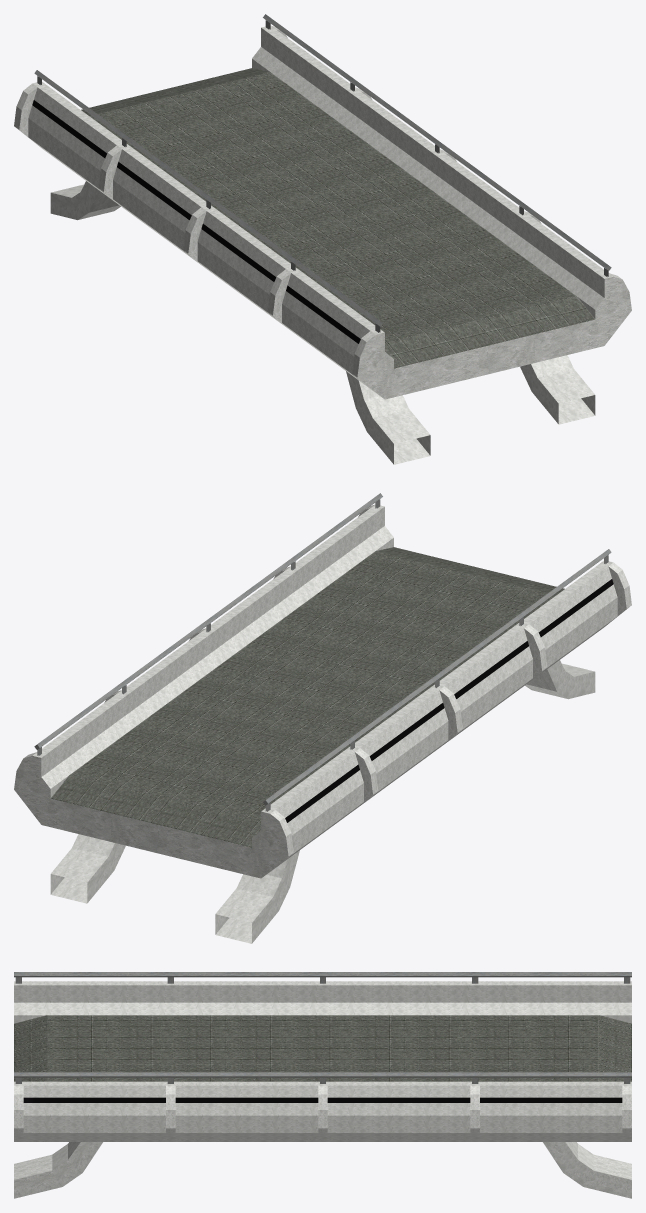
The model's file is thm_corl_imprv_bridge_sm_s01_l1.fbx.
3 renders of one model, top to bottom at view 1: azimuth 30°, elevation 25°; view 2: azimuth 150°, elevation 25°; view 3: azimuth 270°, elevation 25°, orthographic. The views are drawn at different scales.
Visible parts, largest first — view 1: mesh_node; view 2: mesh_node; view 3: mesh_node.
Part boxes in pixels (<box>): mesh_node: <box>14,14,631,464</box>; mesh_node: <box>14,493,631,943</box>; mesh_node: <box>14,972,631,1198</box>.
Size of the model in its own units: 7.5 by 3.84 by 16.25.
